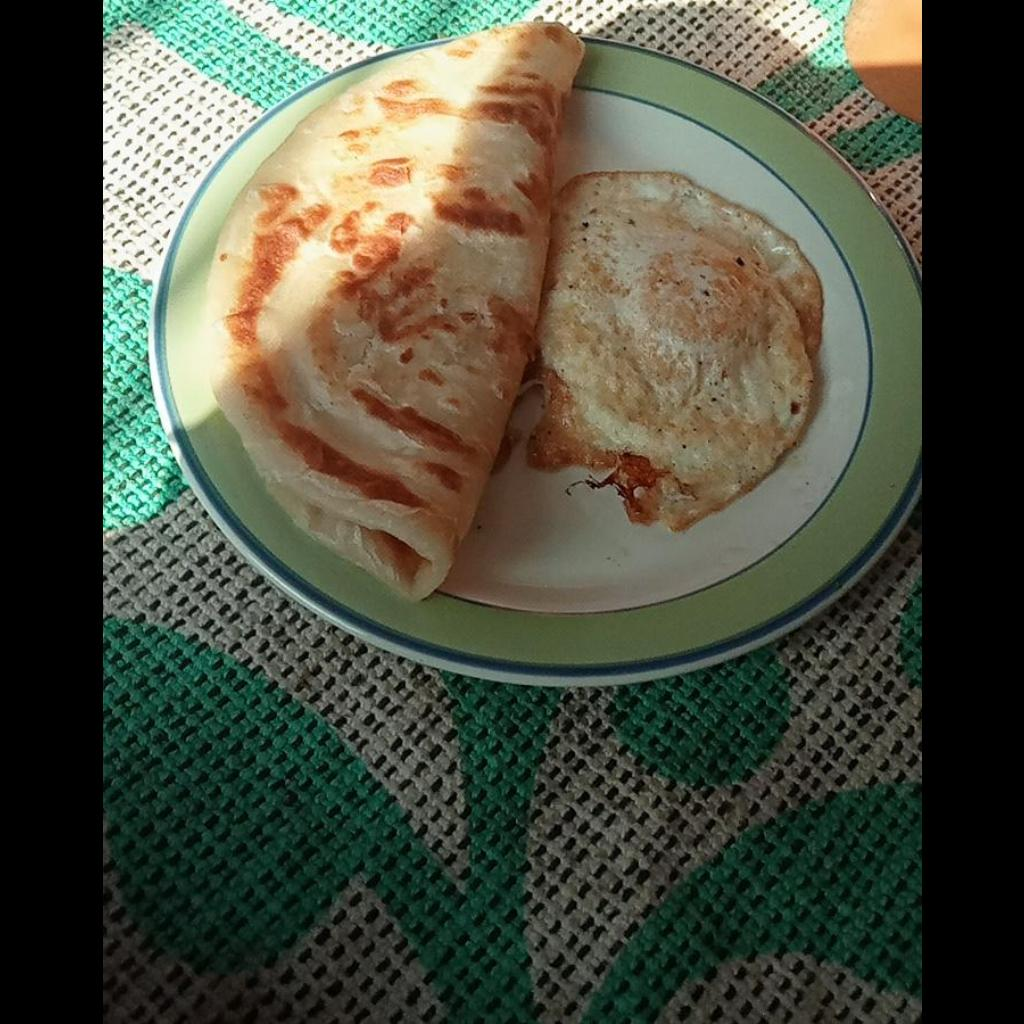egg-poached: (515, 172, 825, 531)
ruti: (202, 17, 586, 602)
